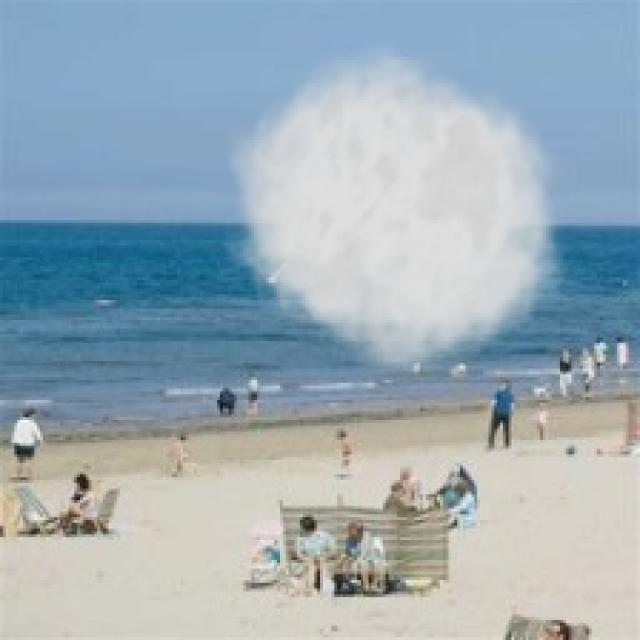smoke: (223, 37, 577, 383)
